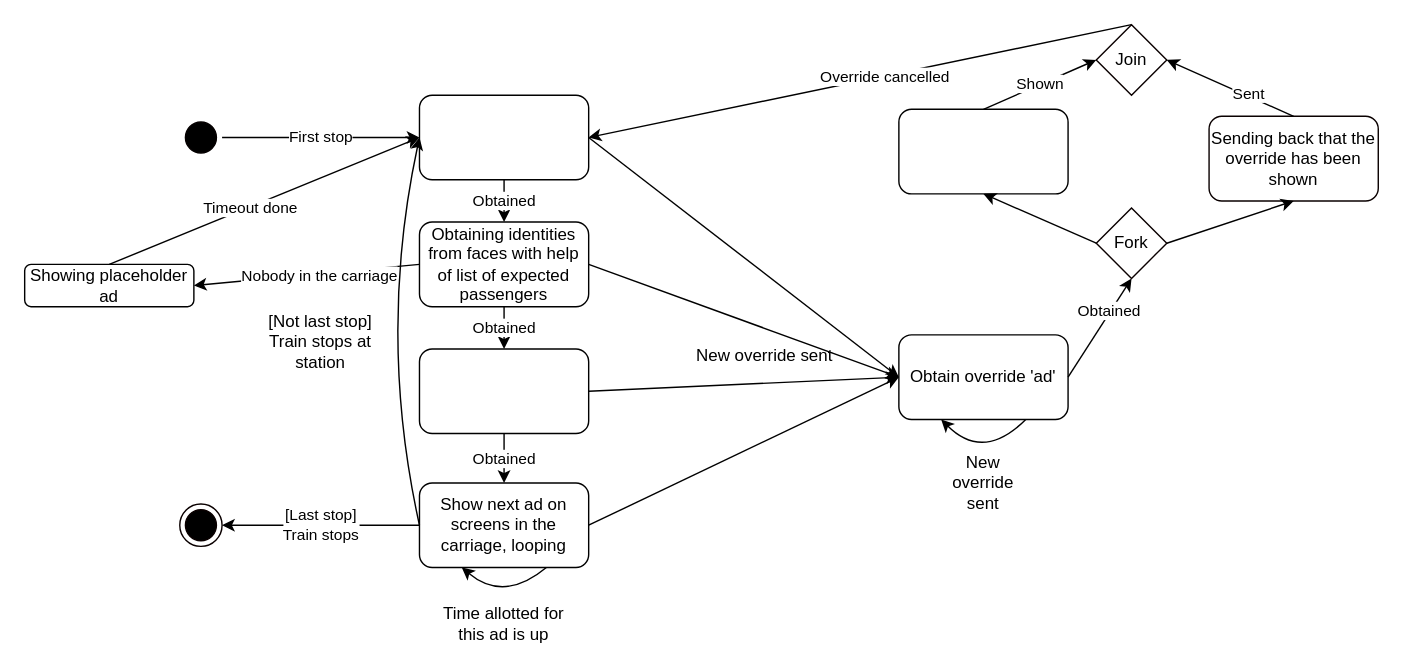
Some shapes in this 1403 by 670 pixel diagram are drawn without their labels. Here are the shapes that lost their labels. From the top down, the centre of each, then its label:
the point at 503,137: Obtaining list of expected passengers if applicable
the point at 982,151: Showing override
the point at 503,391: Obtaining list of appropriate adverts
